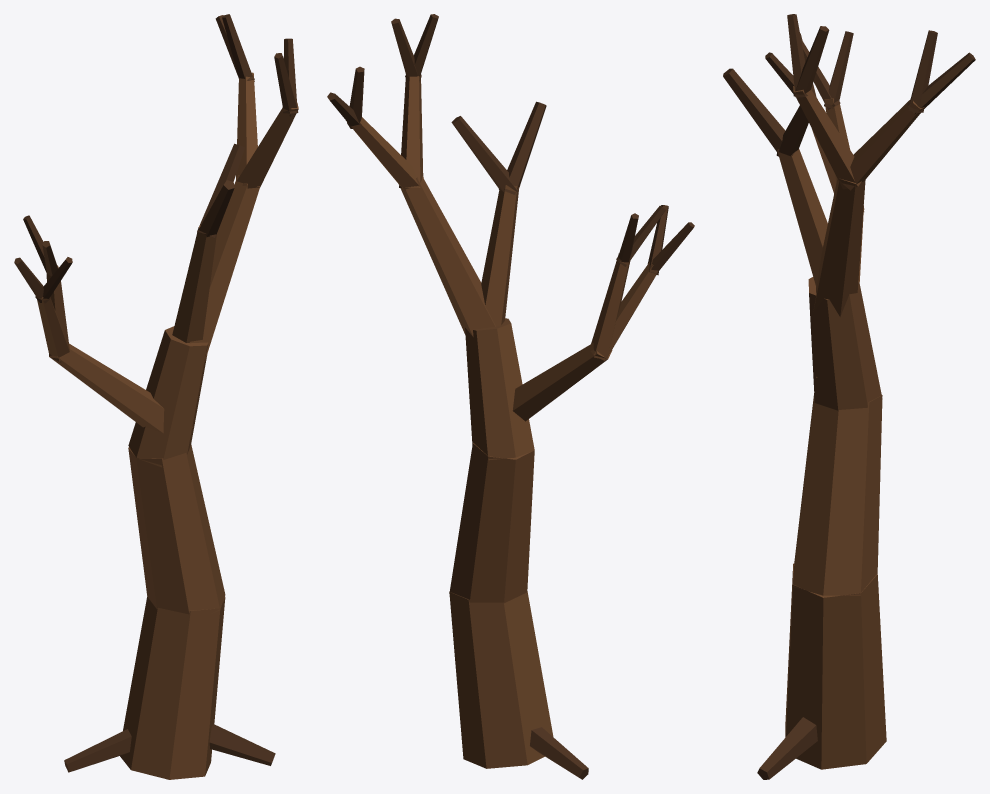
The model's file is Agac_Kuru.fbx.
3 renders of one model, left to right at view 1: azimuth 30°, elevation 25°; view 2: azimuth 150°, elevation 25°; view 3: azimuth 270°, elevation 25°, orthographic. The views are drawn at different scales.
Visible parts, largest first — view 1: Agac_Kuru; view 2: Agac_Kuru; view 3: Agac_Kuru.
Part boxes in pixels (left/top/right/bottom): Agac_Kuru: left=14, top=14, right=298, bottom=779; Agac_Kuru: left=327, top=14, right=694, bottom=779; Agac_Kuru: left=723, top=14, right=975, bottom=779.
Bounding box in the file's own units: 141 × 325 × 94.67.
